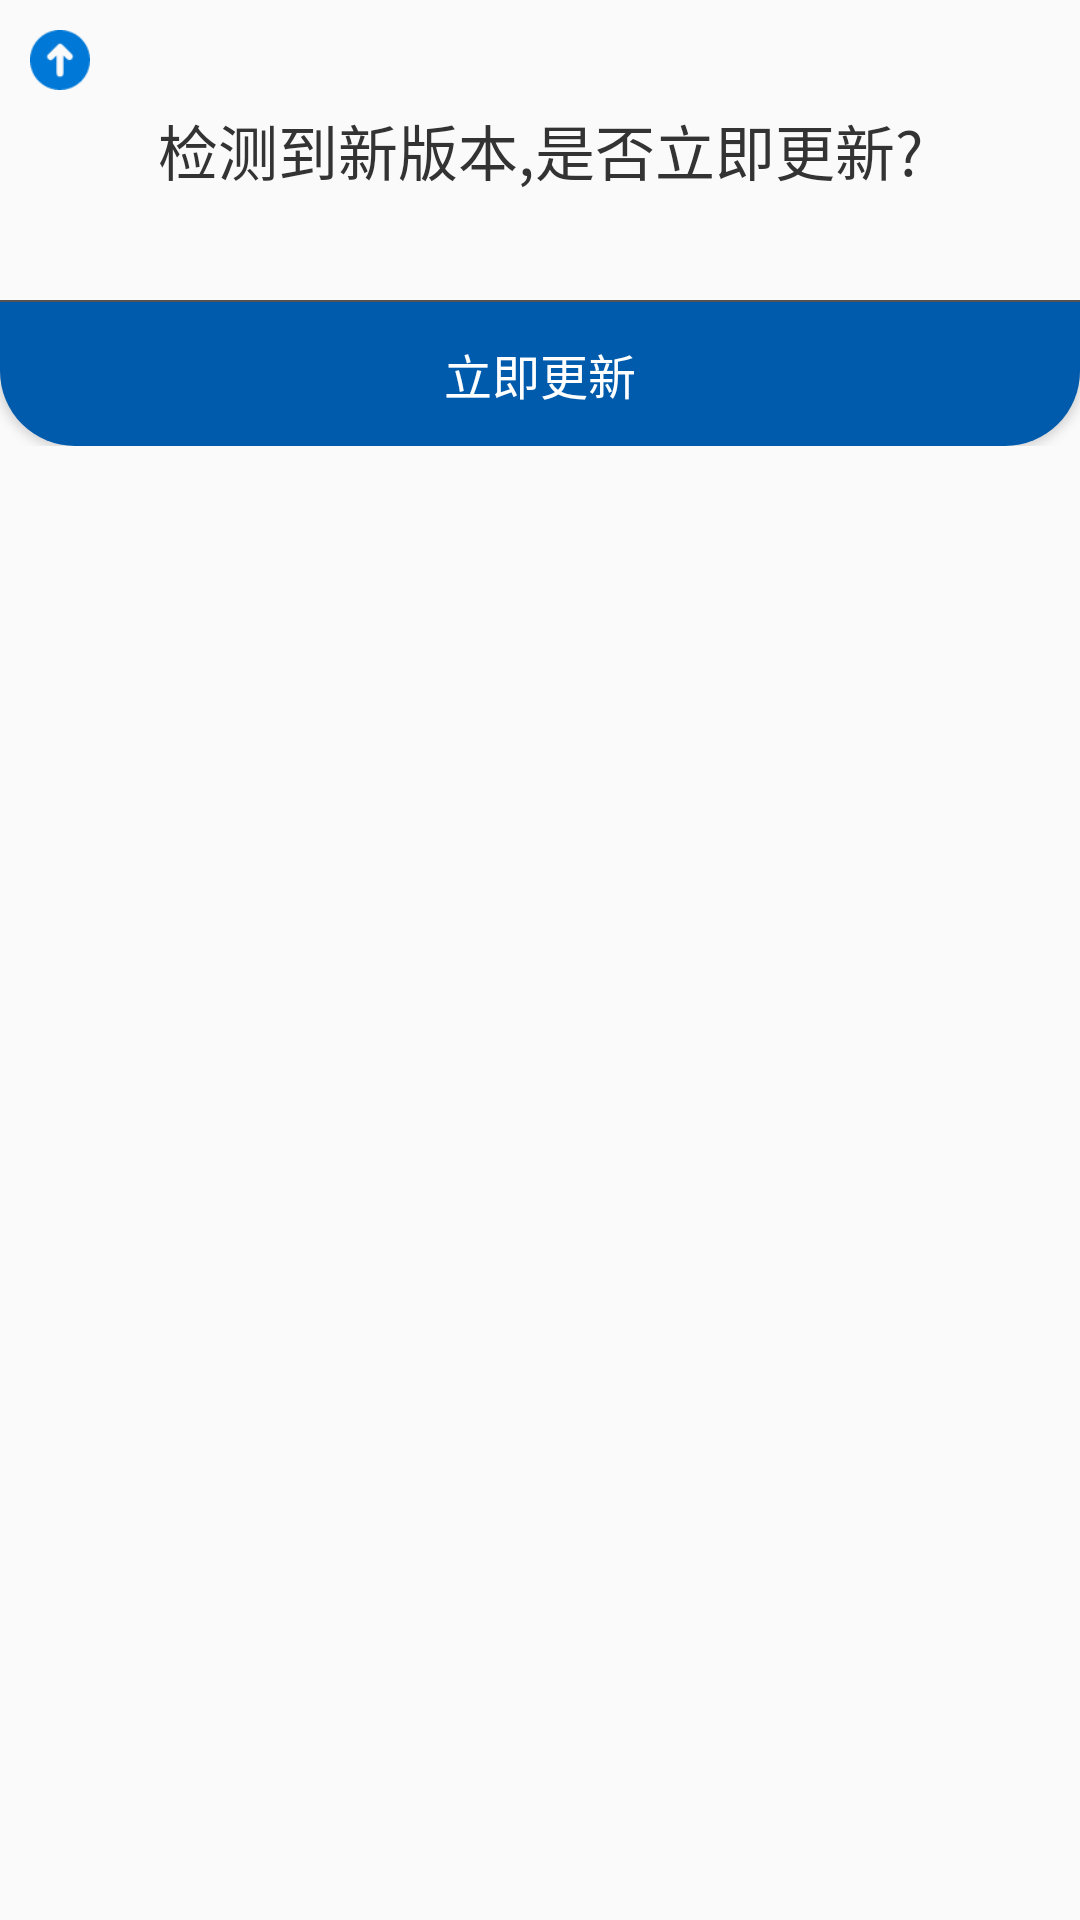

Where to tap for icons on this 1080x1920 app screen, as point (x, y):
upgrade: point (60, 60)
